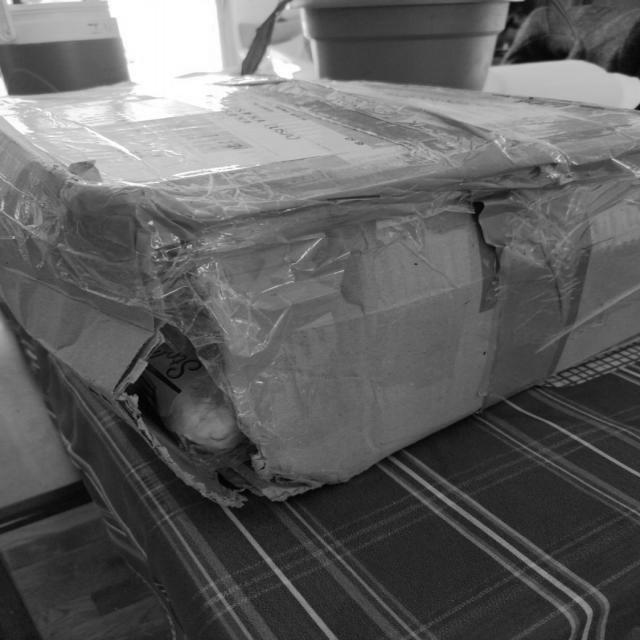hole: (129, 248, 299, 514)
